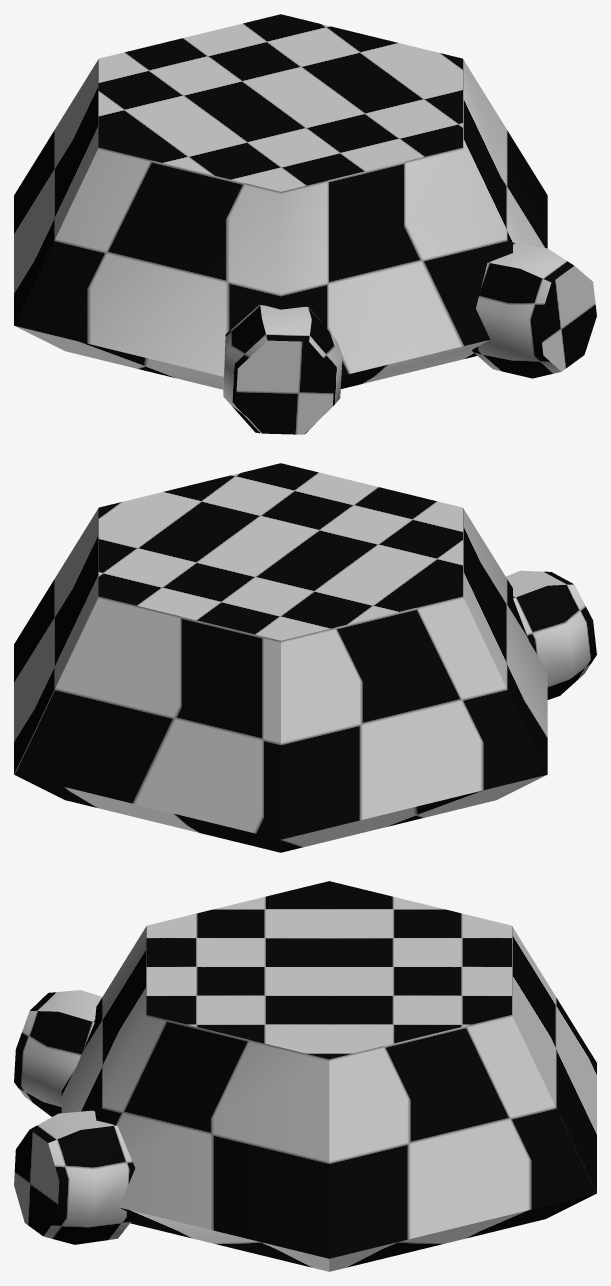
The model's file is cbs_module_platform_lvl2.obj.
3 renders of one model, top to bottom at view 1: azimuth 30°, elevation 25°; view 2: azimuth 150°, elevation 25°; view 3: azimuth 270°, elevation 25°, orthographic.
Visible parts, largest first — view 1: main; view 2: main; view 3: main.
Boxes of the visible parts, x1,y1,x2,y2 form: main: (14, 14, 596, 434); main: (14, 463, 596, 852); main: (14, 881, 596, 1271).
Size of the model in its own units: 149 by 54.76 by 141.
Materials: 1 (1 with a texture image).
